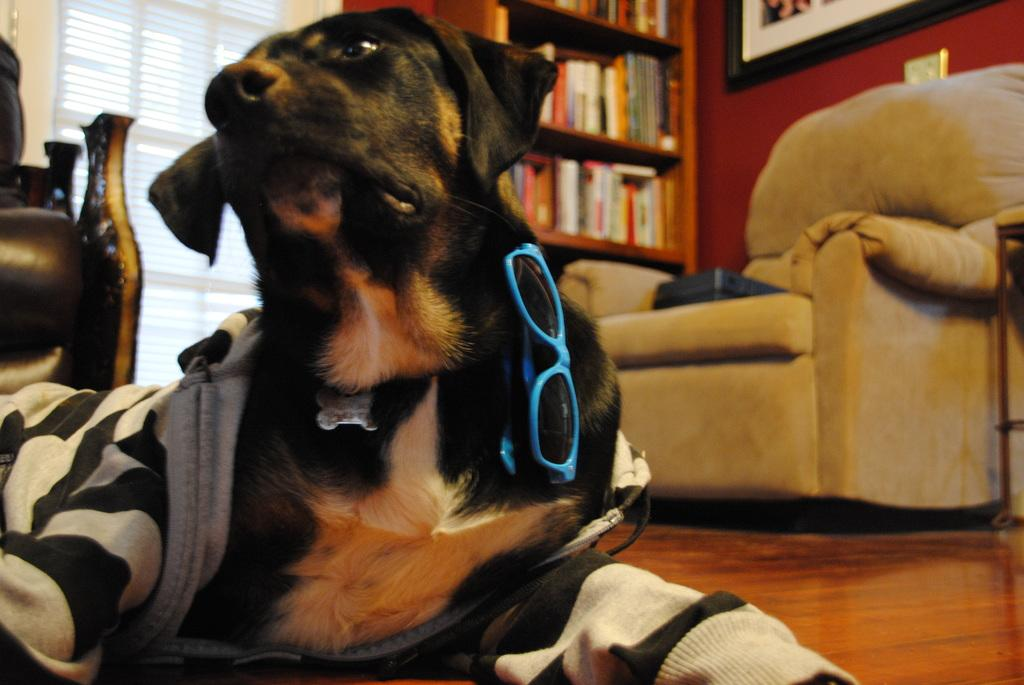Book: (495, 6, 678, 153), (499, 165, 681, 245), (545, 1, 684, 38)
